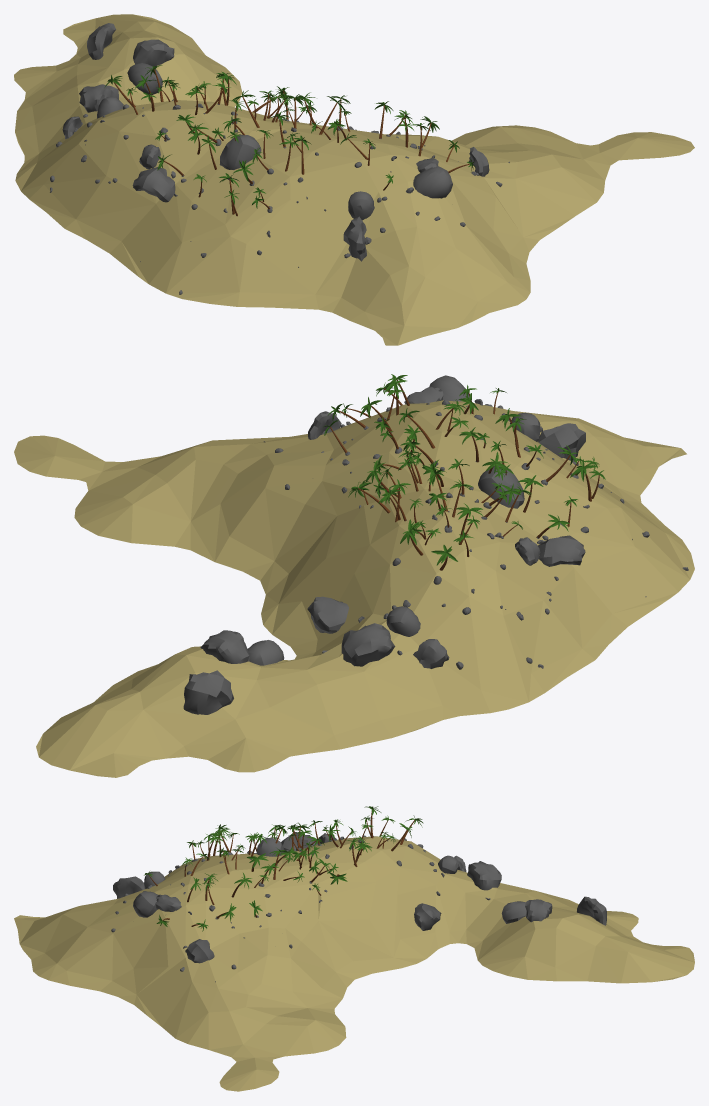
The model's file is Island-2.fbx.
The picture shows the model from 3 angles, top to bottom: view 1: azimuth 30°, elevation 25°; view 2: azimuth 150°, elevation 25°; view 3: azimuth 270°, elevation 25°; orthographic projection. The views are drawn at different scales.
Parts seen in each view (by area): view 1: Island-2, Folige-2; view 2: Island-2, Folige-2; view 3: Island-2, Folige-2.
Part boxes in pixels (bbox=[...]): Island-2: bbox=[14, 14, 694, 345]; Folige-2: bbox=[50, 23, 509, 294]; Island-2: bbox=[14, 400, 694, 777]; Folige-2: bbox=[183, 374, 688, 714]; Island-2: bbox=[14, 836, 694, 1091]; Folige-2: bbox=[111, 806, 606, 982].
Size of the model in its own units: 13031 by 2712 by 16601.
